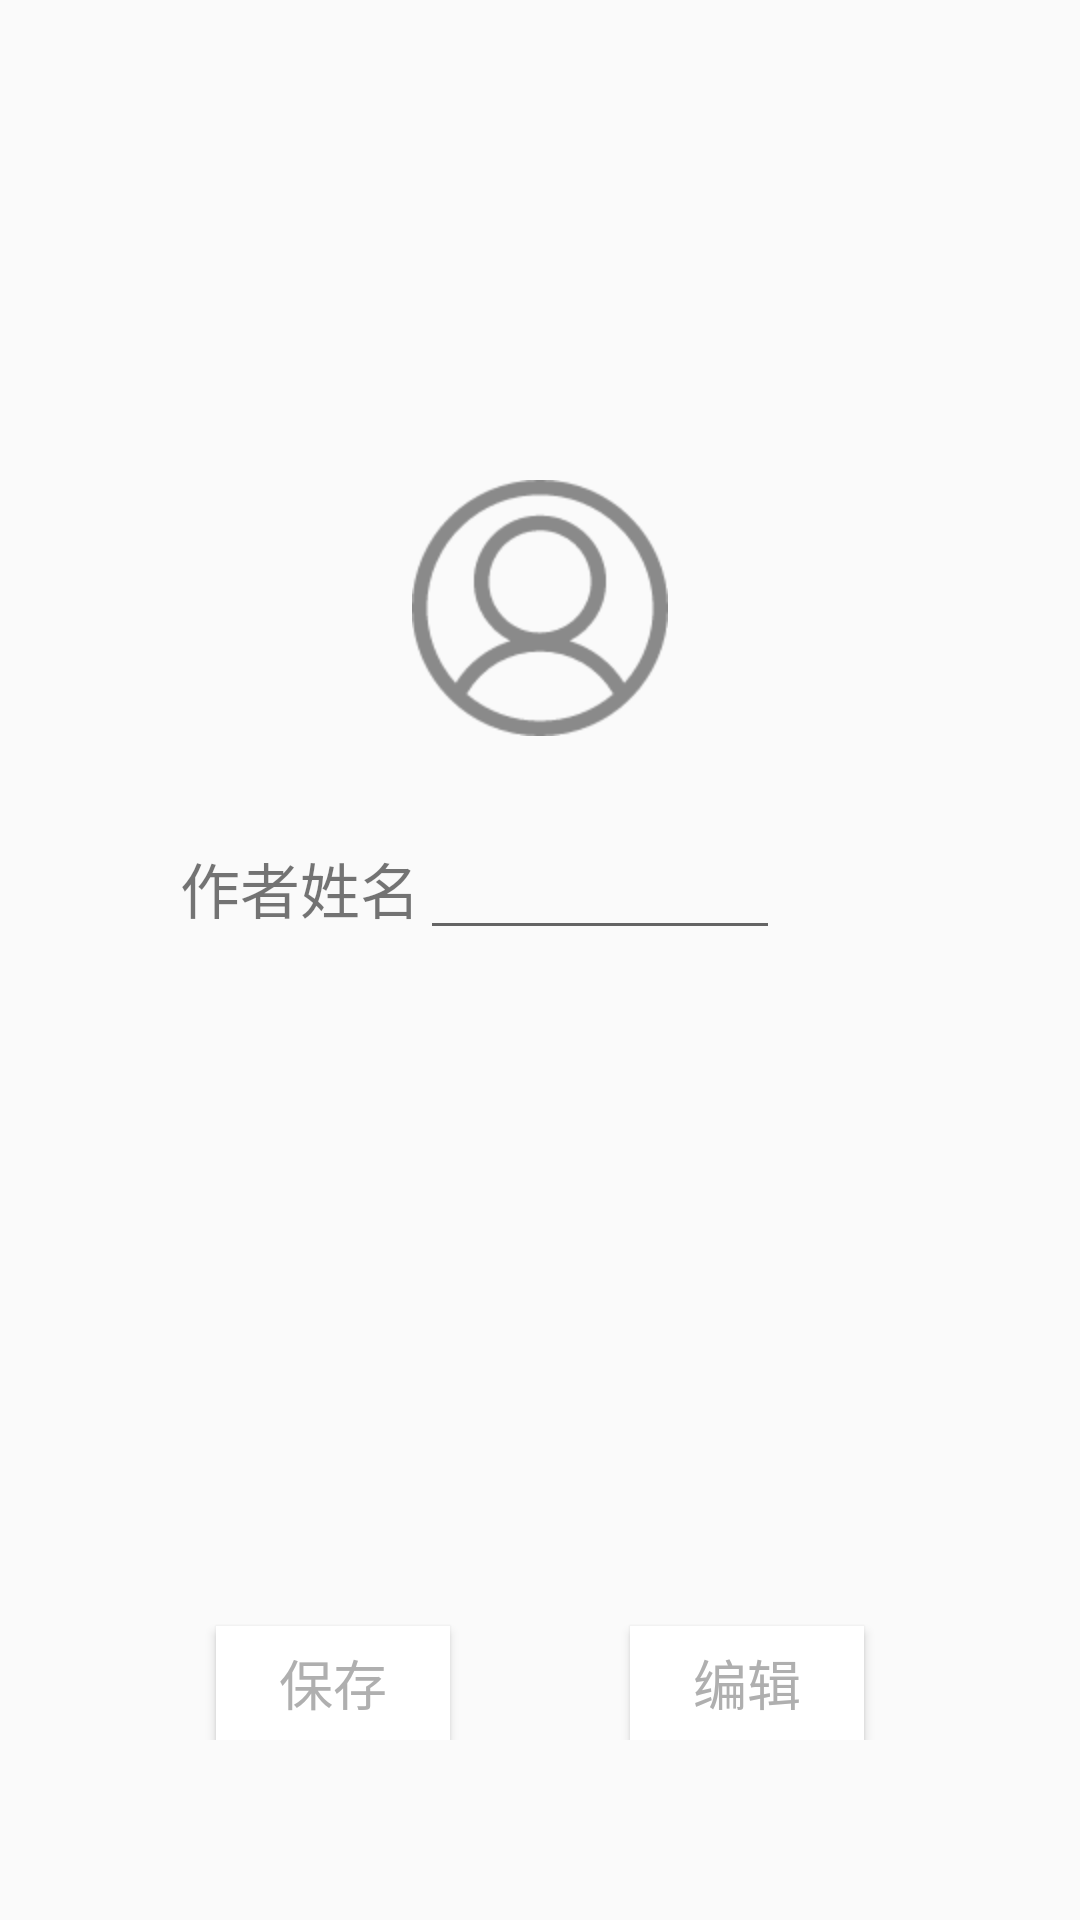

Screen size 1080x1920. Icon name, then its center in pixels as [x,y]:
user: [540,608]
